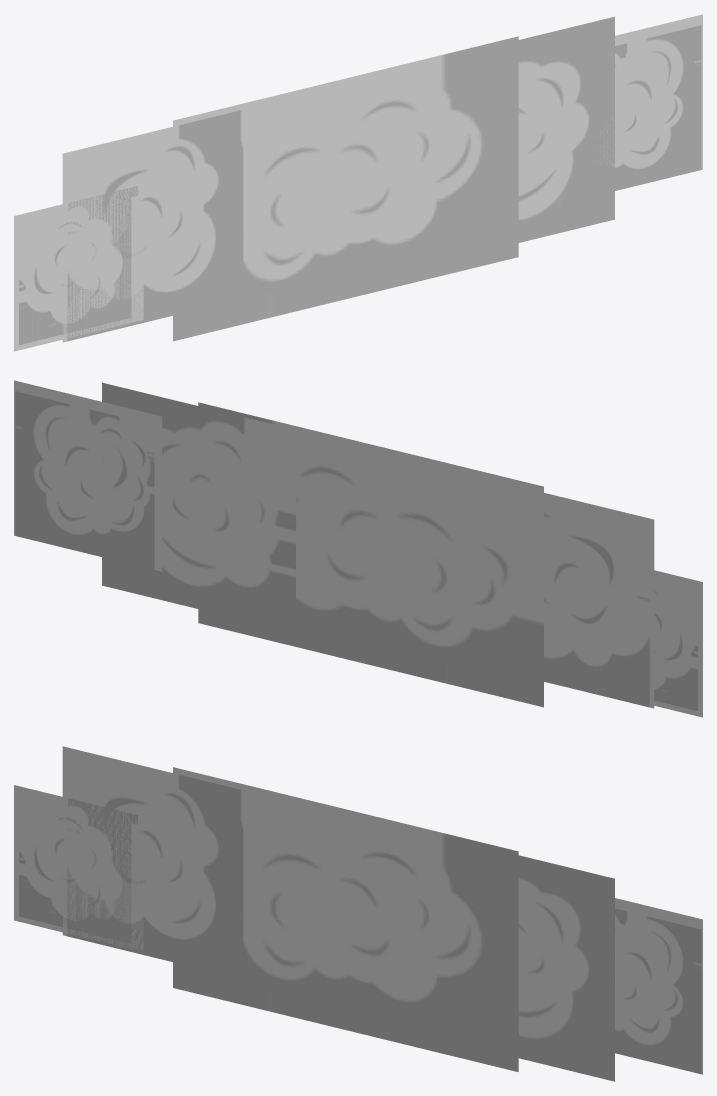
The model's file is puff_balk_168.glb.
The picture shows the model from 3 angles, top to bottom: view 1: azimuth 30°, elevation 25°; view 2: azimuth 150°, elevation 25°; view 3: azimuth 330°, elevation 25°; orthographic projection.
Visible parts, largest first — view 1: puff8, puff1, puff3, puff5, puff2; view 2: puff8, puff3, puff2, puff1, puff5; view 3: puff8, puff1, puff3, puff5, puff2.
Boxes of the visible parts, bbox=[...] form: puff8: bbox=[173, 36, 518, 341]; puff1: bbox=[62, 109, 243, 342]; puff3: bbox=[518, 16, 614, 242]; puff5: bbox=[14, 184, 143, 351]; puff2: bbox=[555, 14, 702, 204]; puff8: bbox=[198, 402, 543, 707]; puff3: bbox=[102, 382, 295, 632]; puff2: bbox=[14, 380, 162, 571]; puff1: bbox=[544, 493, 654, 708]; puff5: bbox=[654, 570, 702, 717]; puff8: bbox=[173, 767, 518, 1071]; puff1: bbox=[62, 746, 243, 979]; puff3: bbox=[518, 855, 614, 1081]; puff5: bbox=[14, 785, 143, 951]; puff2: bbox=[589, 897, 702, 1074].
Size of the model in its own units: 103 by 31.54 by 1.68e-05.
1 material, 1 textured.
